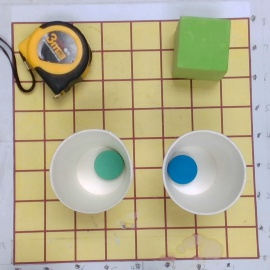cup_blue: (152, 129, 246, 215)
cup_green: (50, 129, 140, 214)
